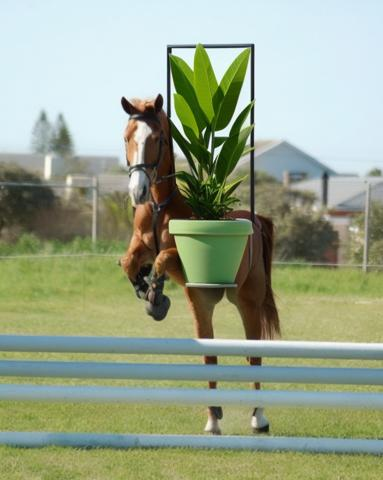horse: (122, 94, 284, 437)
pottedplant: (167, 44, 255, 289)
